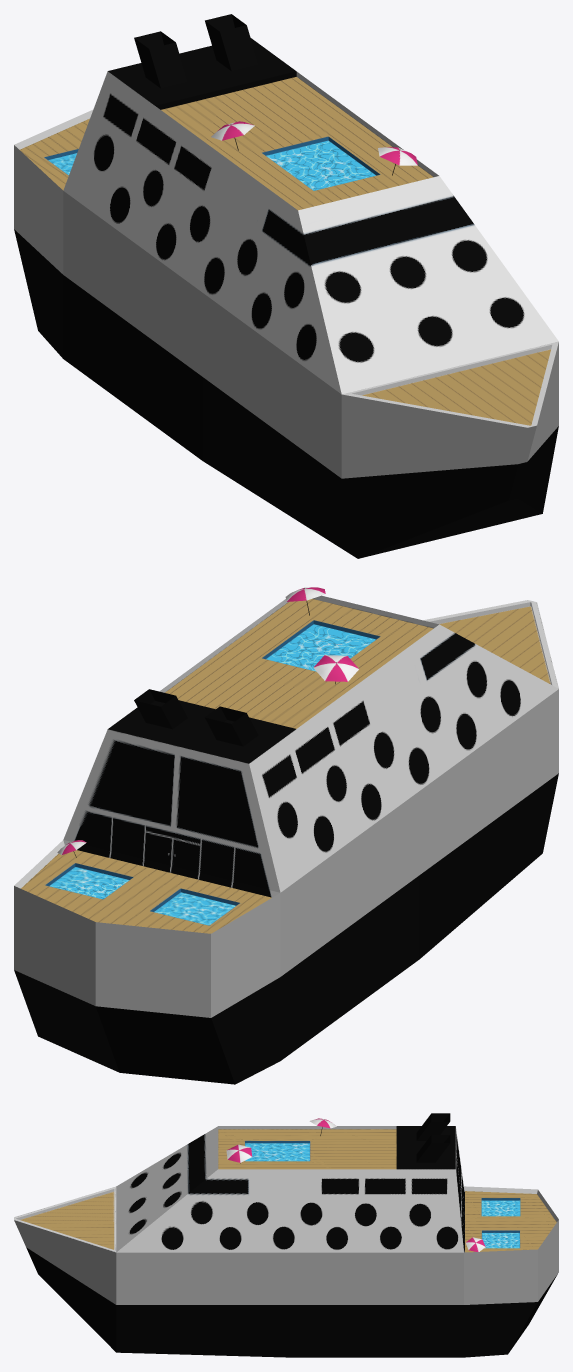
File: CRUISESHIP.fbx
3 views of the same model, one above another, from view 1: azimuth 30°, elevation 25°; view 2: azimuth 150°, elevation 25°; view 3: azimuth 270°, elevation 25° (orthographic). The views are drawn at different scales.
Visible parts, largest first — view 1: Cube; view 2: Cube; view 3: Cube.
Boxes of the visible parts, x1,y1,x2,y2 form: Cube: (14, 14, 558, 558); Cube: (14, 587, 558, 1084); Cube: (14, 1113, 558, 1357).
Size of the model in its own units: 270 by 374 by 940.
